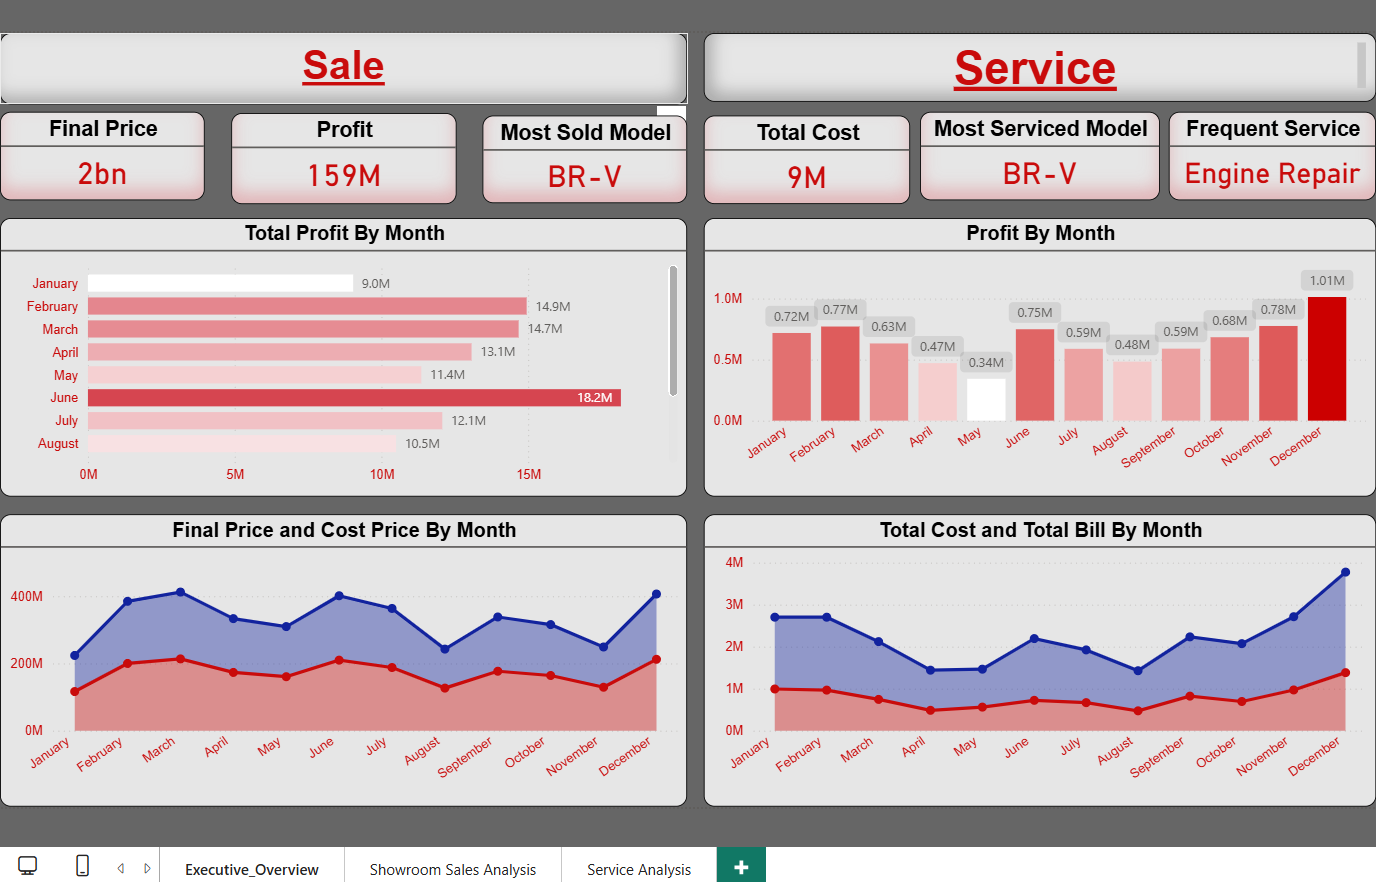

This screenshot's page, from the dashboard's own definition file:
{"tool":"powerbi","page":{"name":"Executive_Overview","canvas":[1280,720],"ordinal":0},"visuals":[{"type":"stackedAreaChart","title":"Final Price and Cost Price By Month","fields":{"Category":["Honda_Car _Sale.Sale_Date.Variation.Date Hierarchy.Month"],"Y":["Sum(Honda_Car _Sale.Final_Price)","Sum(Honda_Car _Sale.Cost_Price)"]},"box":[0,447.7,639.5,272.1],"z":0},{"type":"card","title":"Final Price","fields":{"Values":["Sum(Honda_Car _Sale.Final_Price)"]},"box":[0,73.3,190.7,82.6],"z":1000},{"type":"card","title":"Profit","fields":{"Values":["Sum(Honda_Car _Sale.Profite)"]},"box":[215.1,74.4,209.3,84.9],"z":2000},{"type":"clusteredBarChart","title":"Total Profit By Month","fields":{"Category":["Honda_Car _Sale.Sale_Date.Variation.Date Hierarchy.Month"],"Y":["Sum(Honda_Car _Sale.Profite)"]},"box":[0,172.1,639.5,259.3],"z":3000},{"type":"textbox","box":[0,0,639.5,66.3],"z":4000},{"type":"textbox","box":[654.7,0,625.6,64],"z":5000},{"type":"clusteredColumnChart","title":"Profit By Month","fields":{"Category":["Honda _car_Repair.Service_Date.Variation.Date Hierarchy.Month"],"Y":["Sum(Honda _car_Repair.Profite)"]},"box":[654.7,172.1,625.6,259.3],"z":6000},{"type":"stackedAreaChart","title":"Total Cost and Total Bill By Month","fields":{"Category":["Honda _car_Repair.Service_Date.Variation.Date Hierarchy.Month"],"Y":["Sum(Honda _car_Repair.Cost)","Sum(Honda _car_Repair.Total_Bill)"]},"box":[654.7,447.7,625.6,272.1],"z":7000},{"type":"card","title":"Total Cost","fields":{"Values":["Sum(Honda _car_Repair.Cost)"]},"box":[654.7,76.7,191.9,82.6],"z":8000},{"type":"card","title":"Frequent Service ","fields":{"Values":["Honda _car_Repair.Most Frequent Service"]},"box":[1087.2,73.3,193,82.6],"z":9000},{"type":"card","title":"Most Sold Model","fields":{"Values":["Honda_Car _Sale.Most Sold Model"]},"box":[448.8,76.7,190.7,81.4],"z":10000},{"type":"card","title":"Most Serviced Model","fields":{"Values":["Honda _car_Repair.Most Serviced Model"]},"box":[855.8,73.3,223.3,82.6],"z":11000}]}

Visuals, with their boxes in screenshot pixels (x1, y1, x2, y2):
"Final Price and Cost Price By Month" stackedAreaChart: (7, 510, 685, 799)
"Final Price" card: (7, 114, 209, 201)
"Profit" card: (235, 115, 457, 205)
"Total Profit By Month" clusteredBarChart: (7, 218, 685, 493)
textbox: (7, 36, 685, 106)
textbox: (701, 36, 1364, 104)
"Profit By Month" clusteredColumnChart: (701, 218, 1364, 493)
"Total Cost and Total Bill By Month" stackedAreaChart: (701, 510, 1364, 799)
"Total Cost" card: (701, 117, 905, 205)
"Frequent Service " card: (1160, 114, 1364, 201)
"Most Sold Model" card: (483, 117, 685, 203)
"Most Serviced Model" card: (914, 114, 1151, 201)
